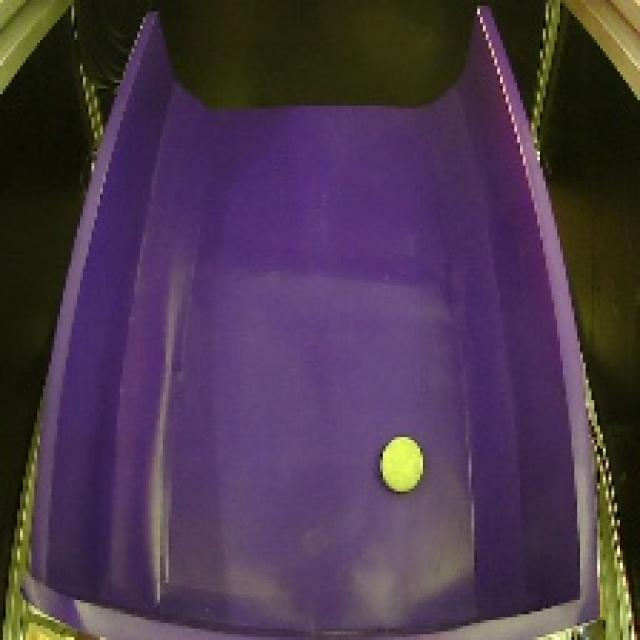small: (373, 432, 431, 498)
